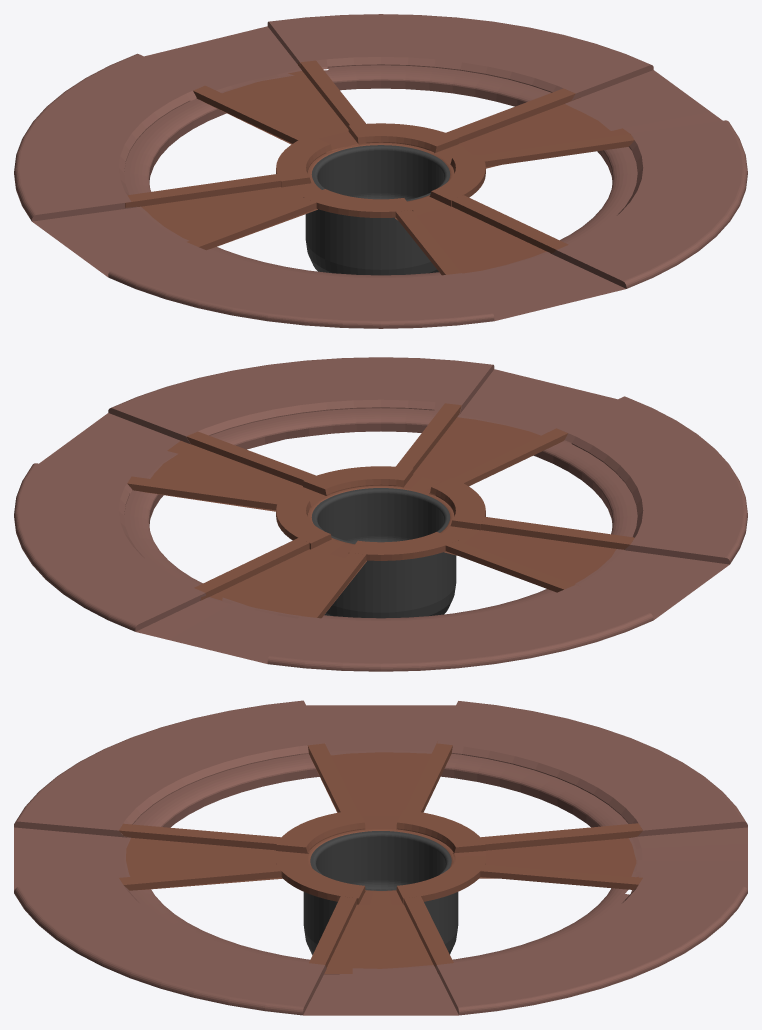
The model's file is ステーション(仮).fbx.
The picture shows the model from 3 angles, top to bottom: view 1: azimuth 30°, elevation 25°; view 2: azimuth 150°, elevation 25°; view 3: azimuth 270°, elevation 25°; orthographic projection. The views are drawn at different scales.
Parts seen in each view (by area): view 1: 円柱.002, 水路.003, 円柱.001; view 2: 円柱.002, 水路.003, 円柱.001; view 3: 円柱.002, 水路.003, 円柱.001.
Part boxes in pixels (x1,y1,x2,y2): 円柱.002: (14,14,747,328); 水路.003: (125,60,634,275); 円柱.001: (305,145,450,275); 円柱.002: (14,357,747,671); 水路.003: (127,403,634,618); 円柱.001: (311,488,456,618); 円柱.002: (14,700,747,1015); 水路.003: (119,741,642,974); 円柱.001: (303,831,458,954).
Size of the model in its own units: 17118 by 2996 by 17118.
